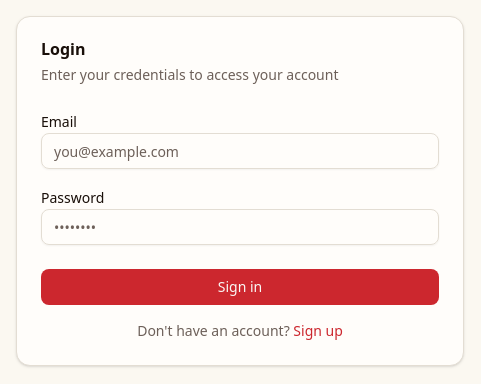
Test: Login › shows loading state while submitting
Type "test@example.com" into the field labelled "Email".
click(240, 151); type("test@example.com")  # box [41, 133, 439, 169]
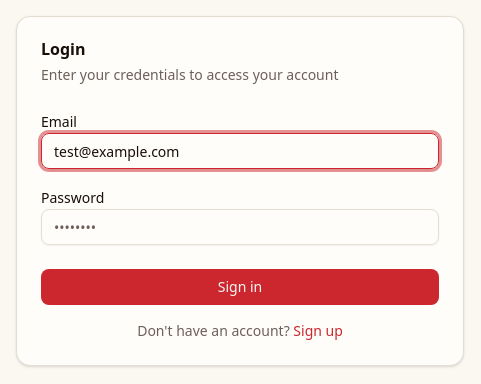
Type "password123" into the password field labelled "Password".
click(240, 227); type("password123")  # box [41, 209, 439, 245]
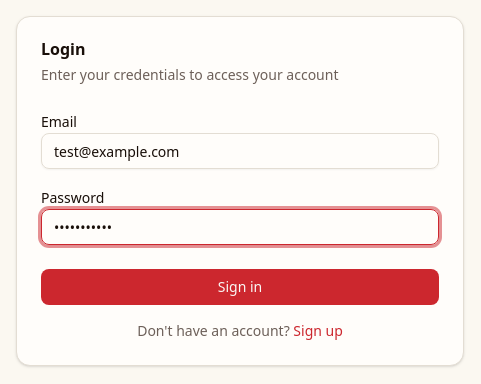
Click the button "Sign in".
click(240, 287)  # box [41, 269, 439, 305]
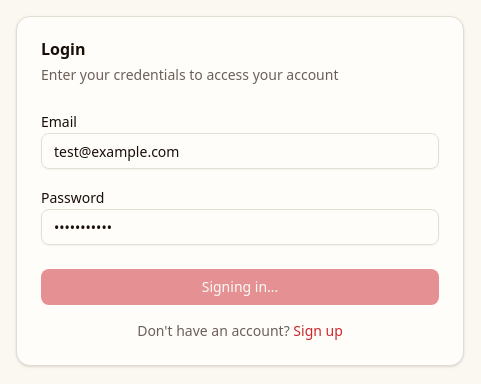
Expected: the button "Signing in..." is disabled, [41, 269, 439, 305]
